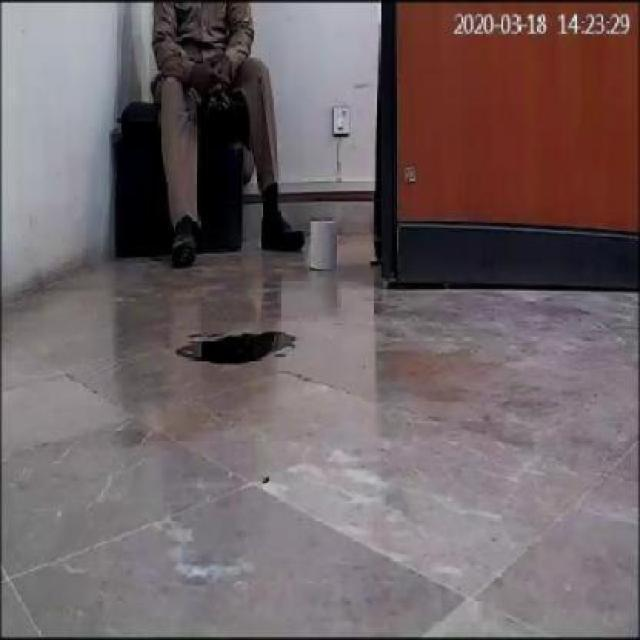spillage: (160, 328, 308, 373)
